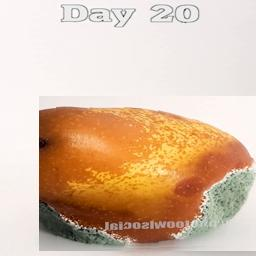Pear Rotten: (39, 96, 256, 251)
